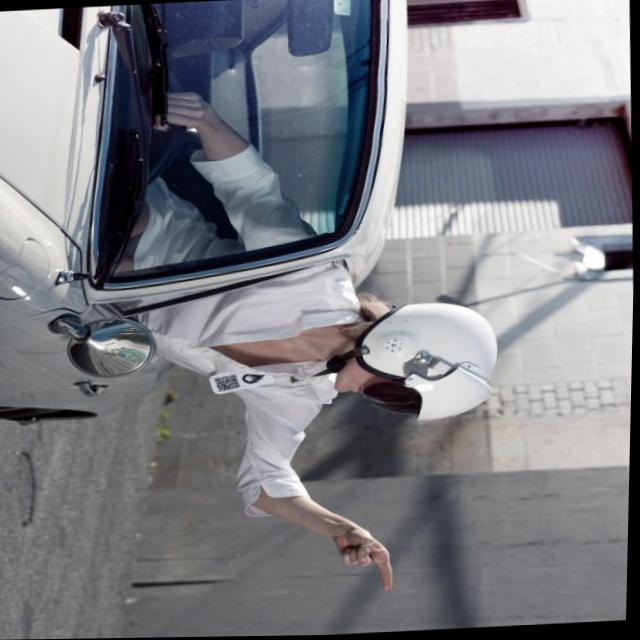qrcode: (216, 376, 242, 393)
